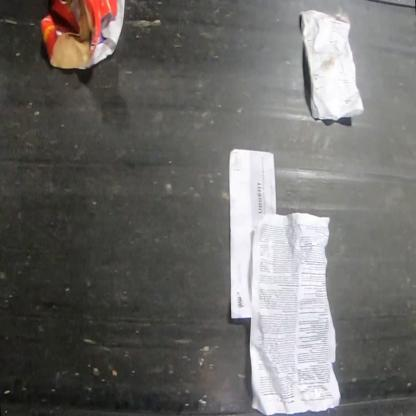cardboard: (40, 0, 126, 69)
